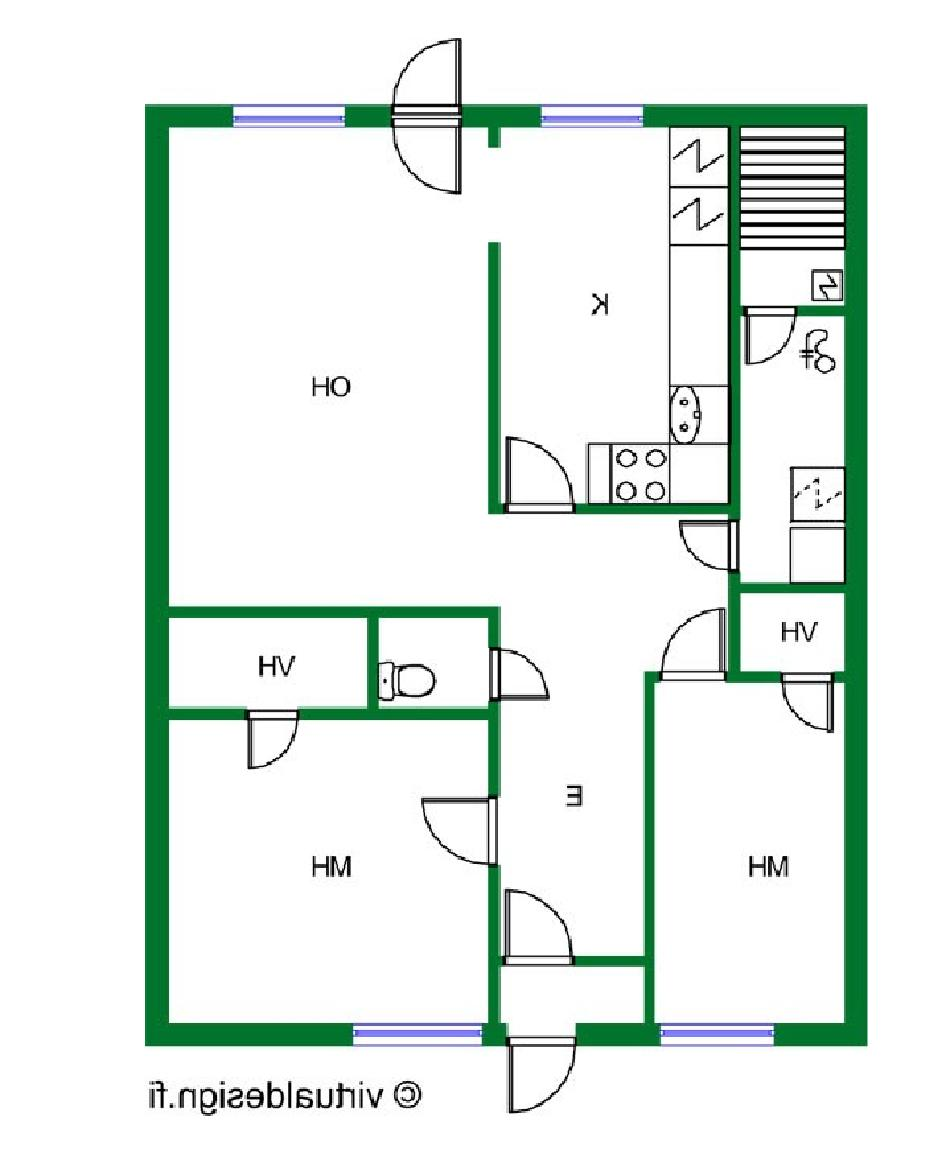door: (389, 29, 476, 202), (418, 788, 501, 870), (660, 595, 729, 683), (513, 1039, 587, 1114), (502, 893, 572, 966), (487, 649, 556, 712), (243, 710, 305, 771), (678, 517, 741, 576), (783, 667, 831, 739)
window: (665, 1018, 773, 1051), (536, 104, 641, 134), (354, 1021, 483, 1045), (235, 105, 343, 133)
zone: (170, 128, 735, 1039), (172, 714, 484, 1023), (656, 678, 847, 1019), (740, 316, 844, 574), (737, 128, 842, 304), (168, 616, 366, 705), (378, 619, 487, 701), (741, 592, 850, 674)
